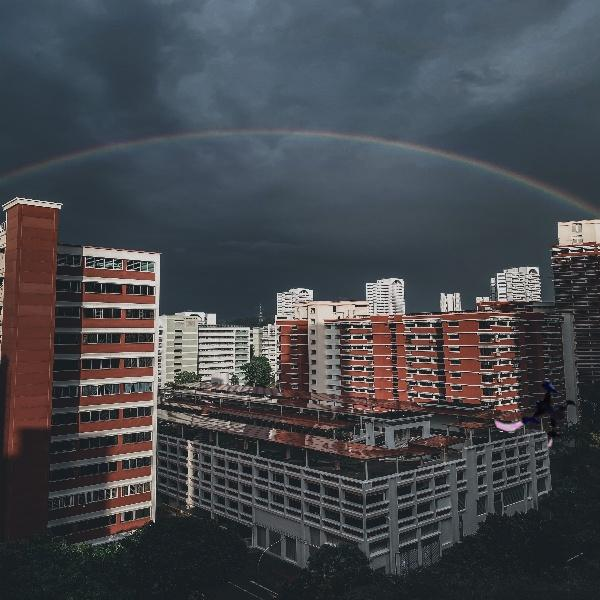drone: (495, 361, 586, 452)
